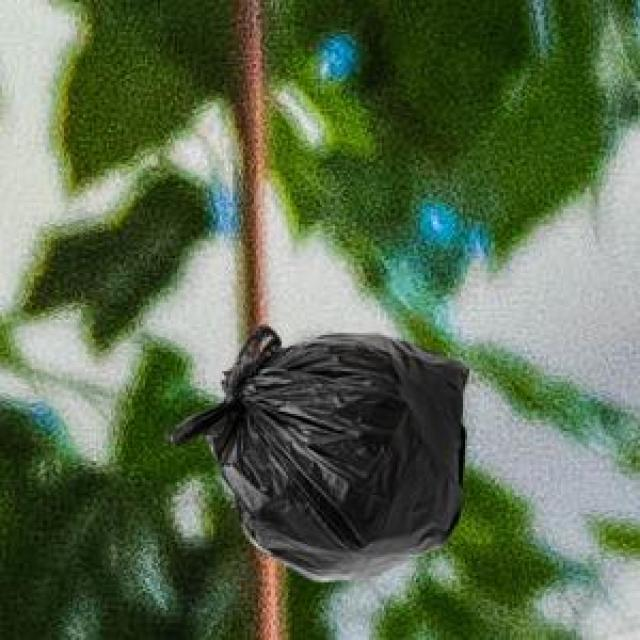Trashbag: (166, 313, 475, 589)
